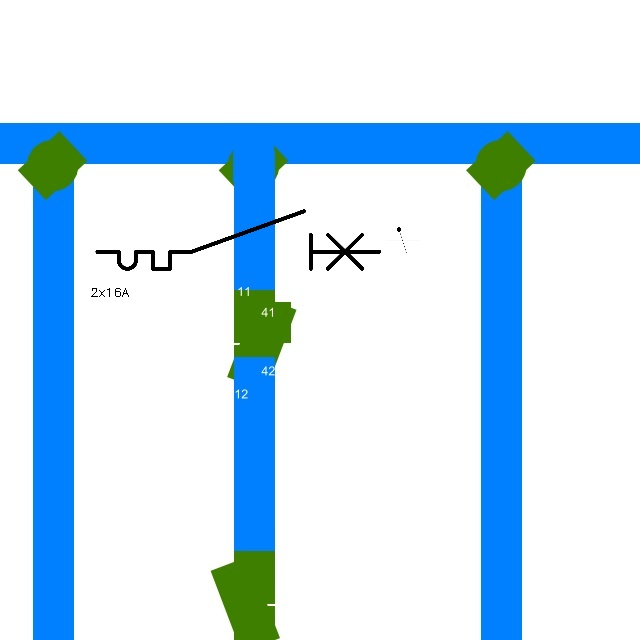interruptor_termomagnetico: (90, 204, 387, 276)
